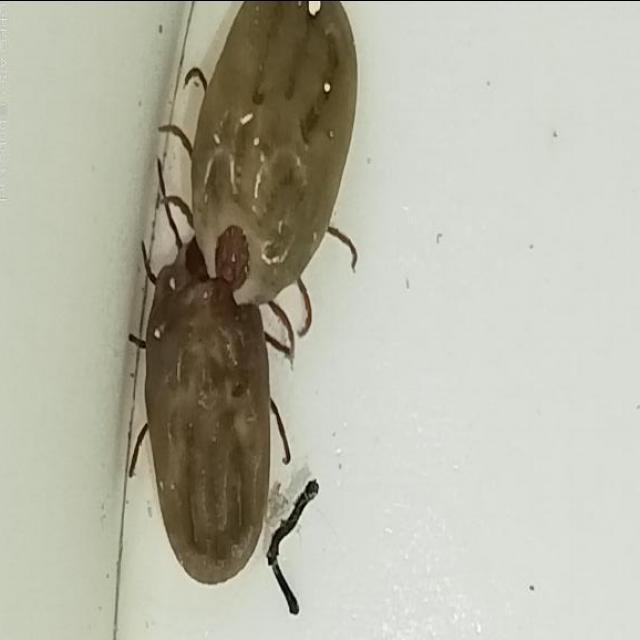Rhipicephalus Sanguineus-F-Fed: (188, 0, 357, 304)
